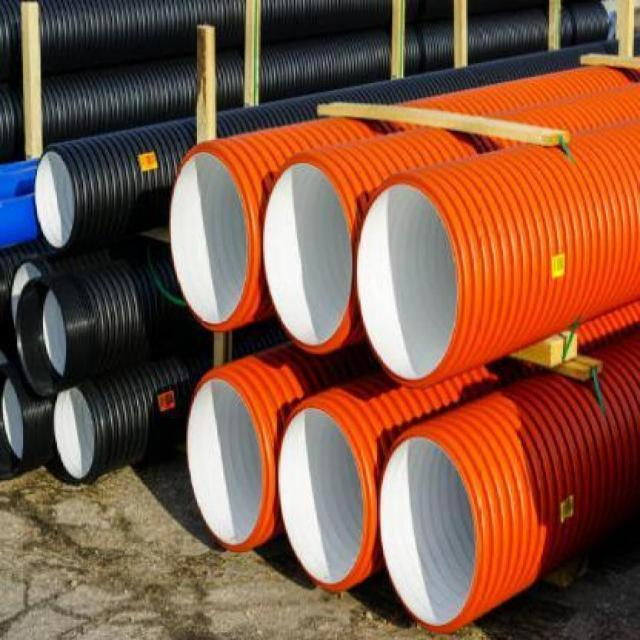pipe: (355, 178, 460, 386), (379, 434, 481, 633), (262, 160, 354, 354), (277, 405, 368, 587), (169, 147, 249, 331), (186, 375, 268, 551), (15, 275, 69, 400), (35, 148, 77, 249), (52, 386, 96, 477), (0, 375, 31, 468)
